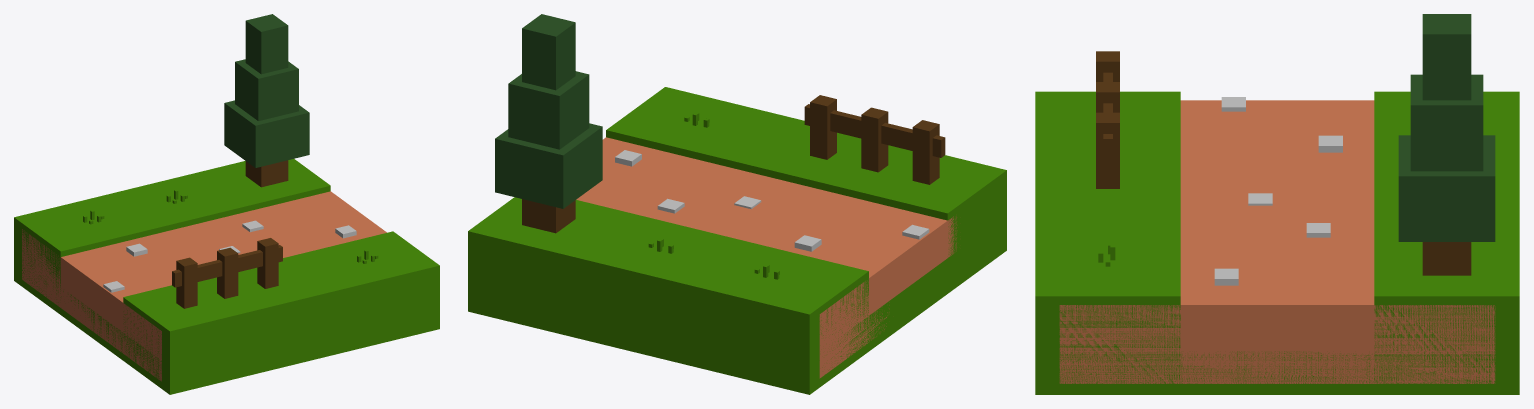
Rendered from path_1.glb.
The picture shows the model from 3 angles, left to right: view 1: azimuth 30°, elevation 25°; view 2: azimuth 150°, elevation 25°; view 3: azimuth 270°, elevation 25°; orthographic projection. The views are drawn at different scales.
Parts seen in each view (by area): view 1: Herbe Sol Gauche_2, Chemin_0, Herbe Sol Droite_1, Cube_37, Bas arbre_3, Milieur arbre_5, Haut arbre_4, Planche_14, plot 2_16, plot 3_17, plot 1_15, Tronc_6; view 2: Herbe Sol Droite_1, Chemin_0, Herbe Sol Gauche_2, Cube_37, Bas arbre_3, Milieur arbre_5, Haut arbre_4, Planche_14, plot 1_15, plot 2_16, plot 3_17, Tronc_6; view 3: Chemin_0, Herbe Sol Gauche_2, Herbe Sol Droite_1, Cube_37, Bas arbre_3, Milieur arbre_5, Haut arbre_4, Tronc_6, plot 3_17, plot 1_15, plot 2_16, Planche_14 (+2 smaller).
Part boxes in pixels (x1=…): Herbe Sol Gauche_2: x1=123, y1=231, x2=439, y2=387; Chemin_0: x1=22, y1=191, x2=386, y2=381; Herbe Sol Droite_1: x1=14, y1=159, x2=330, y2=302; Cube_37: x1=14, y1=274, x2=439, y2=394; Bas arbre_3: x1=224, y1=100, x2=309, y2=167; Milieur arbre_5: x1=235, y1=59, x2=298, y2=120; Haut arbre_4: x1=245, y1=14, x2=288, y2=74; Planche_14: x1=172, y1=245, x2=282, y2=287; plot 2_16: x1=217, y1=247, x2=238, y2=298; plot 3_17: x1=257, y1=238, x2=278, y2=288; plot 1_15: x1=176, y1=257, x2=197, y2=308; Tronc_6: x1=245, y1=160, x2=288, y2=187; Herbe Sol Droite_1: x1=468, y1=197, x2=868, y2=385; Chemin_0: x1=576, y1=137, x2=957, y2=378; Herbe Sol Gauche_2: x1=606, y1=87, x2=1006, y2=257; Cube_37: x1=468, y1=215, x2=1006, y2=394; Bas arbre_3: x1=495, y1=123, x2=602, y2=208; Milieur arbre_5: x1=508, y1=71, x2=589, y2=149; Haut arbre_4: x1=522, y1=14, x2=575, y2=90; Planche_14: x1=804, y1=104, x2=945, y2=157; plot 1_15: x1=912, y1=120, x2=939, y2=184; plot 2_16: x1=861, y1=107, x2=888, y2=172; plot 3_17: x1=810, y1=95, x2=836, y2=159; Tronc_6: x1=522, y1=199, x2=575, y2=233; Chemin_0: x1=1059, y1=100, x2=1495, y2=383; Herbe Sol Gauche_2: x1=1035, y1=91, x2=1180, y2=383; Herbe Sol Droite_1: x1=1374, y1=91, x2=1519, y2=383; Cube_37: x1=1035, y1=351, x2=1519, y2=394; Bas arbre_3: x1=1398, y1=135, x2=1495, y2=241; Milieur arbre_5: x1=1410, y1=74, x2=1483, y2=171; Haut arbre_4: x1=1422, y1=14, x2=1471, y2=100; Tronc_6: x1=1422, y1=242, x2=1471, y2=275; plot 3_17: x1=1096, y1=112, x2=1119, y2=188; plot 1_15: x1=1096, y1=51, x2=1119, y2=81; plot 2_16: x1=1096, y1=82, x2=1119, y2=112; Planche_14: x1=1103, y1=72, x2=1112, y2=160.
Bounding box in the file's own units: 2 × 1.55 × 2.
